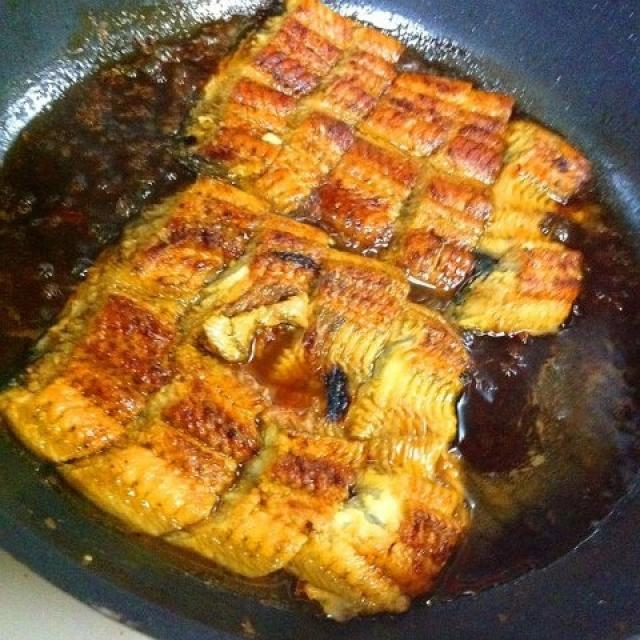熟制海鲜: (26, 29, 606, 600)
